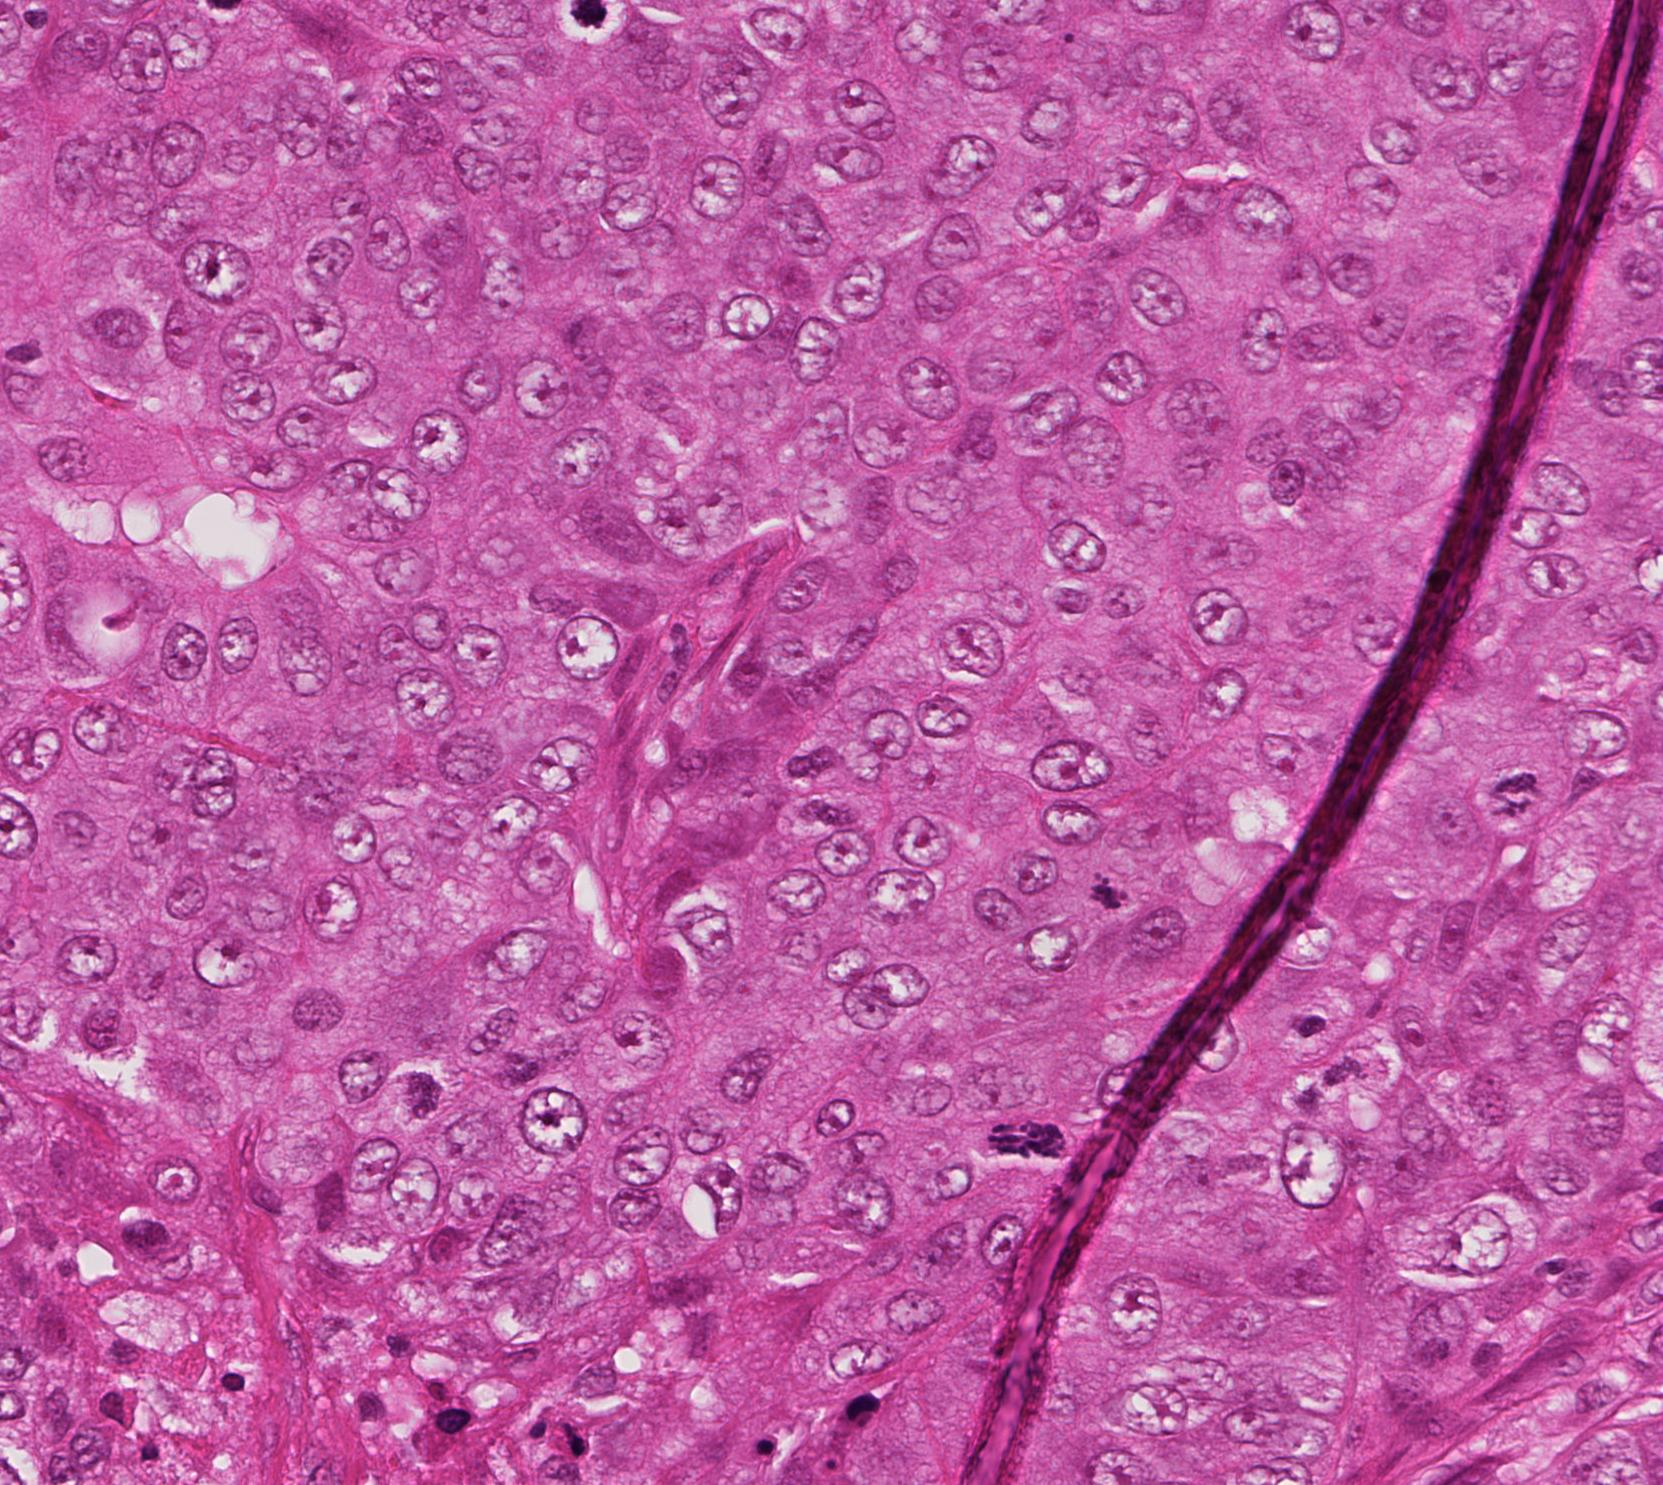mitosis: (1297, 1058, 1358, 1118), (391, 1058, 452, 1118), (988, 1112, 1048, 1173), (1077, 861, 1135, 922), (1487, 765, 1545, 826), (562, 0, 622, 52)
